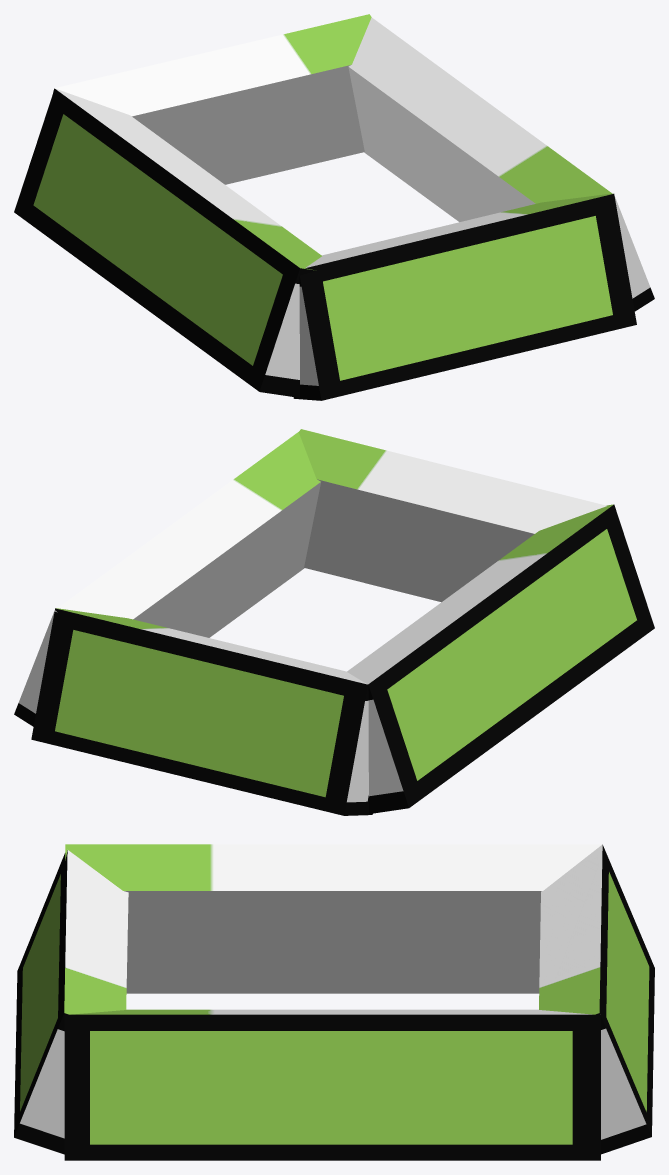
File: hokakuteki_leg.fbx
The picture shows the model from 3 angles, top to bottom: view 1: azimuth 30°, elevation 25°; view 2: azimuth 150°, elevation 25°; view 3: azimuth 270°, elevation 25°; orthographic projection. The views are drawn at different scales.
Visible parts, largest first — view 1: 立方体.007, 立方体.006, 立方体.005, 立方体.002; view 2: 立方体.006, 立方体.005, 立方体.007, 立方体.002; view 3: 立方体.002, 立方体.006, 立方体.005, 立方体.007.
Boxes of the visible parts, box(x1,y1,x2,y2) form: 立方体.007: box(293, 193, 636, 400); 立方体.006: box(14, 88, 321, 397); 立方体.005: box(53, 14, 371, 184); 立方体.002: box(348, 17, 654, 311); 立方体.006: box(347, 504, 654, 813); 立方体.005: box(31, 608, 372, 815); 立方体.007: box(298, 429, 606, 602); 立方体.002: box(14, 432, 320, 726); 立方体.002: box(64, 1009, 600, 1160); 立方体.006: box(65, 844, 601, 993); 立方体.005: box(539, 844, 654, 1154); 立方体.007: box(14, 850, 128, 1154).
Bounding box in the file's own units: 324 × 252 × 82.73.
